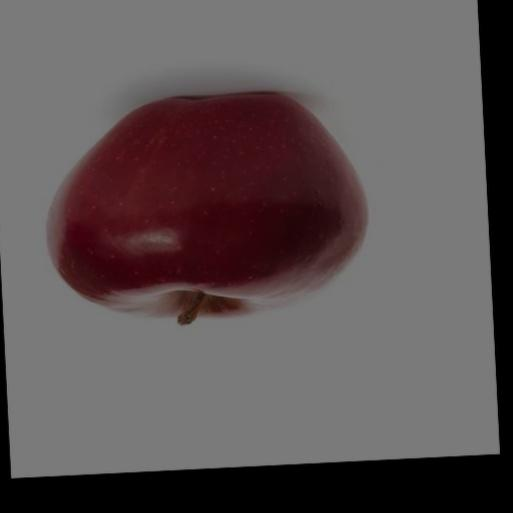red apple: (35, 91, 373, 326)
